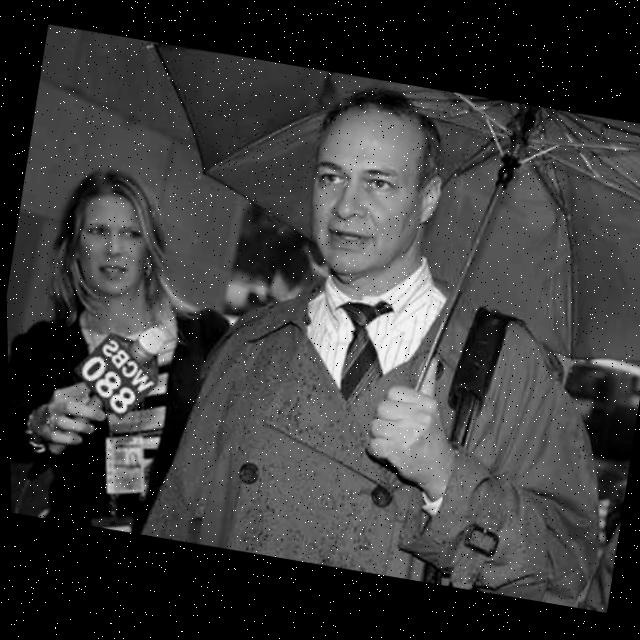face: (290, 86, 449, 297), (46, 169, 167, 304)
